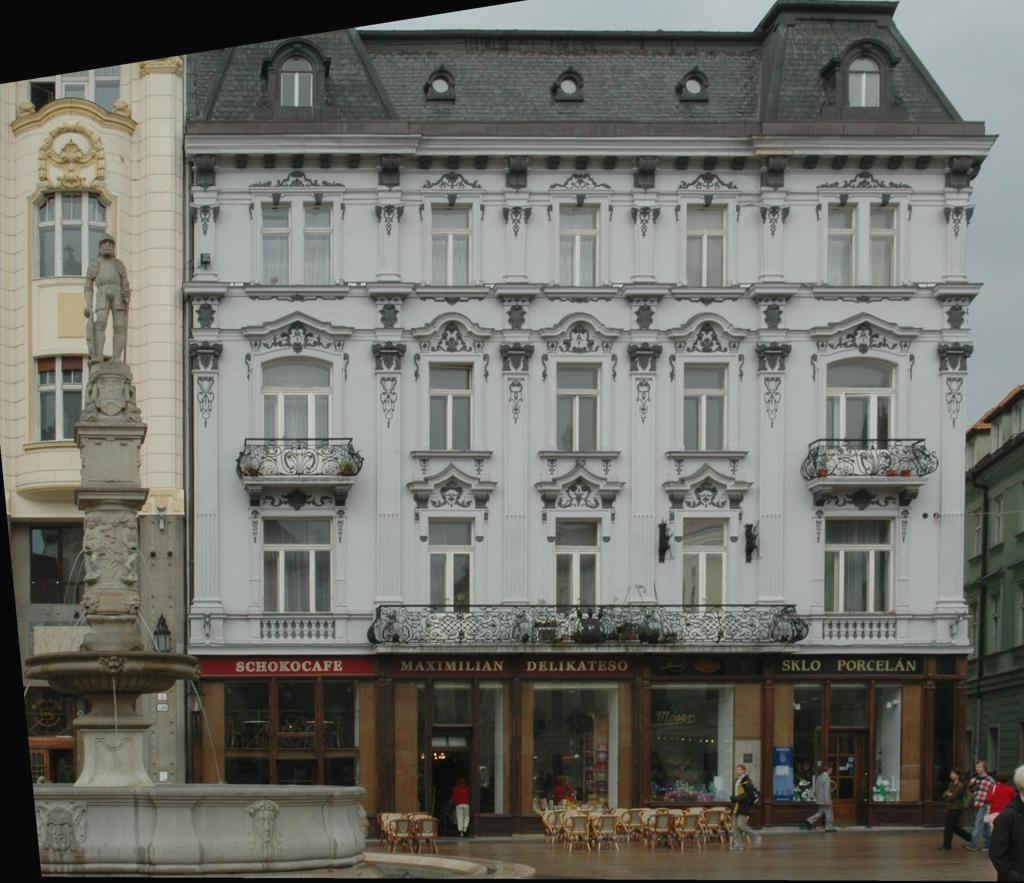window: (29, 526, 137, 605), (260, 355, 334, 456), (27, 47, 122, 125), (825, 357, 899, 457), (34, 189, 115, 279), (33, 354, 113, 442), (826, 517, 898, 613), (263, 517, 334, 614), (684, 519, 730, 618), (429, 518, 475, 617), (557, 519, 602, 617), (557, 363, 602, 453), (430, 362, 474, 452), (686, 363, 730, 452), (432, 203, 473, 287), (687, 203, 728, 287), (561, 203, 602, 286), (261, 201, 292, 286), (303, 202, 334, 286), (870, 203, 901, 287), (829, 203, 859, 287), (281, 55, 313, 107), (849, 56, 881, 107), (561, 76, 580, 95), (432, 75, 451, 94), (686, 76, 704, 95)
